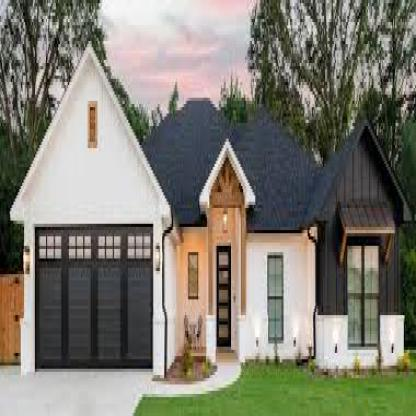Door: (216, 248, 231, 352)
Window: (349, 248, 379, 346), (269, 298, 283, 342), (268, 257, 283, 297), (188, 251, 198, 301)
